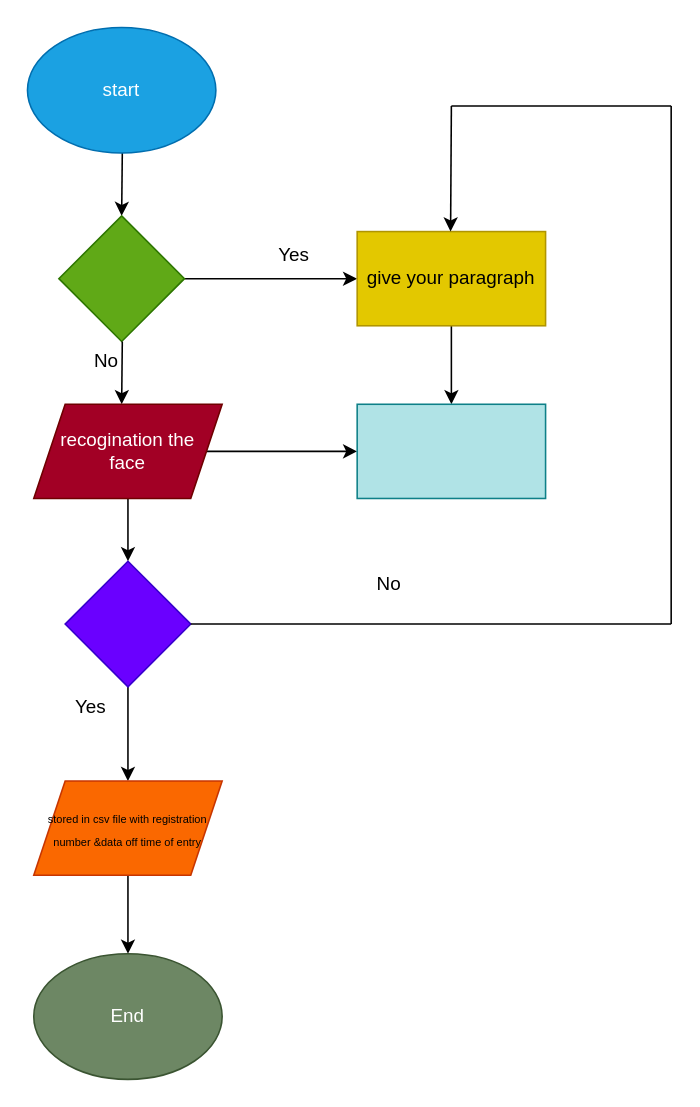
Image size: 700x1107. Some labels were removed from this diagram. Here are the shapes that lost their labels. From the top down, the centre of each, then its label:
the point at 120,277: new user?
the point at 451,450: store the face data in folder on your name
the point at 127,623: face recogination
